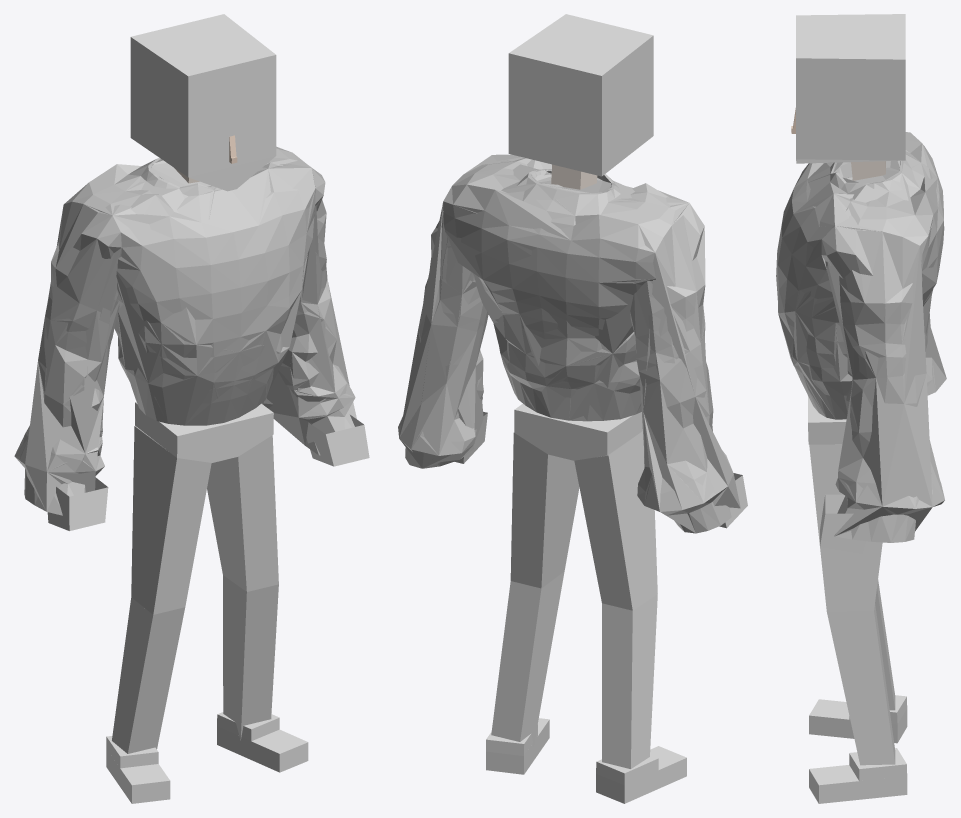
The model's file is character_sweater_complete.fbx.
3 views of the same model, side by side, from view 1: azimuth 30°, elevation 25°; view 2: azimuth 150°, elevation 25°; view 3: azimuth 270°, elevation 25° (orthographic).
Parts seen in each view (by area): view 1: Sweater_1, cabeca, coxa direita, coxa esquerda, canela direita, canela esquerda, pelve, pe esquerdo, pe direito, antebraco esquerdo, antebraco direito; view 2: Sweater_1, cabeca, coxa direita, canela direita, coxa esquerda, canela esquerda, pelve, pe direito, pe esquerdo, pecoco; view 3: Sweater_1, cabeca, canela esquerda, coxa esquerda, pe esquerdo, pe direito, antebraco esquerdo, pelve, canela direita, pecoco.
Boxes of the visible parts, left/top/right/bottom form: Sweater_1: left=14, top=146, right=356, bottom=515; cabeca: left=130, top=14, right=276, bottom=191; coxa direita: left=131, top=426, right=211, bottom=614; coxa esquerda: left=207, top=435, right=278, bottom=591; canela direita: left=112, top=597, right=185, bottom=753; canela esquerda: left=223, top=575, right=278, bottom=740; pelve: left=135, top=402, right=273, bottom=462; pe esquerdo: left=217, top=712, right=308, bottom=772; pe direito: left=106, top=736, right=170, bottom=803; antebraco esquerdo: left=306, top=415, right=369, bottom=466; antebraco direito: left=47, top=477, right=108, bottom=530; Sweater_1: left=398, top=154, right=740, bottom=533; cabeca: left=508, top=14, right=653, bottom=176; coxa direita: left=574, top=431, right=657, bottom=610; canela direita: left=602, top=594, right=657, bottom=768; coxa esquerda: left=510, top=432, right=579, bottom=588; canela esquerda: left=491, top=571, right=564, bottom=746; pelve: left=514, top=404, right=642, bottom=460; pe direito: left=596, top=746, right=686, bottom=803; pe esquerdo: left=486, top=718, right=549, bottom=774; pecoco: left=551, top=164, right=597, bottom=189; Sweater_1: left=776, top=132, right=946, bottom=542; cabeca: left=796, top=14, right=905, bottom=163; canela esquerda: left=827, top=604, right=895, bottom=765; coxa esquerda: left=809, top=444, right=882, bottom=611; pe esquerdo: left=809, top=748, right=907, bottom=803; pe direito: left=809, top=695, right=907, bottom=743; antebraco esquerdo: left=820, top=494, right=865, bottom=553; pelve: left=808, top=396, right=846, bottom=444; canela direita: left=875, top=579, right=895, bottom=710; pecoco: left=851, top=161, right=885, bottom=180.
Bounding box in the file's own units: 0.8572 × 1.83 × 0.3919.
